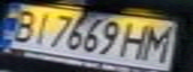6: (81, 16, 106, 55), (63, 12, 87, 52)
7: (42, 10, 72, 49)
9: (96, 18, 127, 57)
B: (3, 7, 42, 43)
H: (115, 19, 157, 61)
I: (24, 9, 57, 46)
M: (136, 23, 184, 62)
